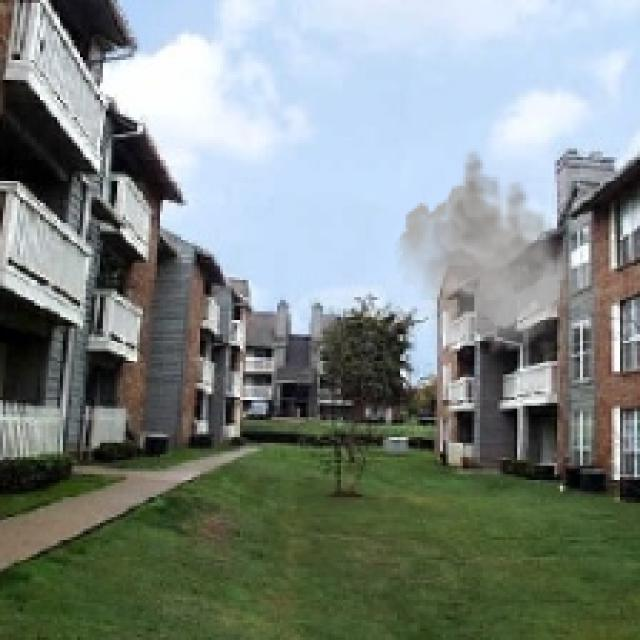smoke: (394, 143, 597, 357)
